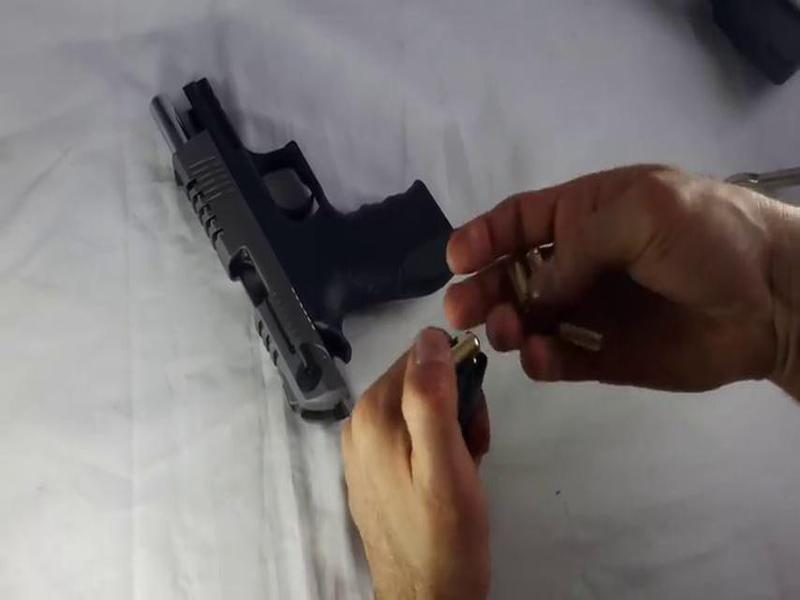Pistola: (144, 71, 467, 432)
